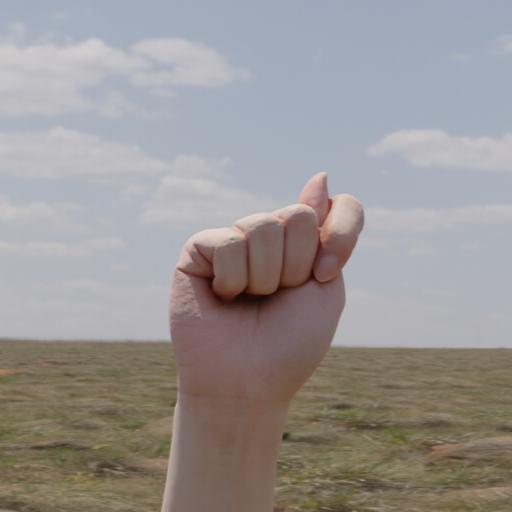T: (136, 164, 368, 414)
